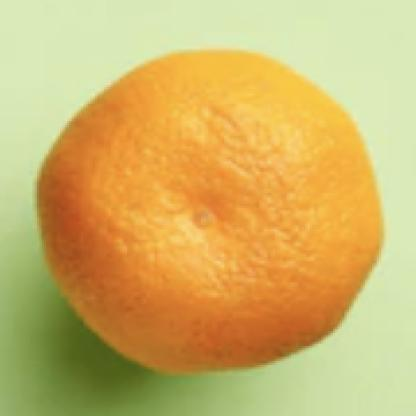fresh: (38, 51, 382, 381)
